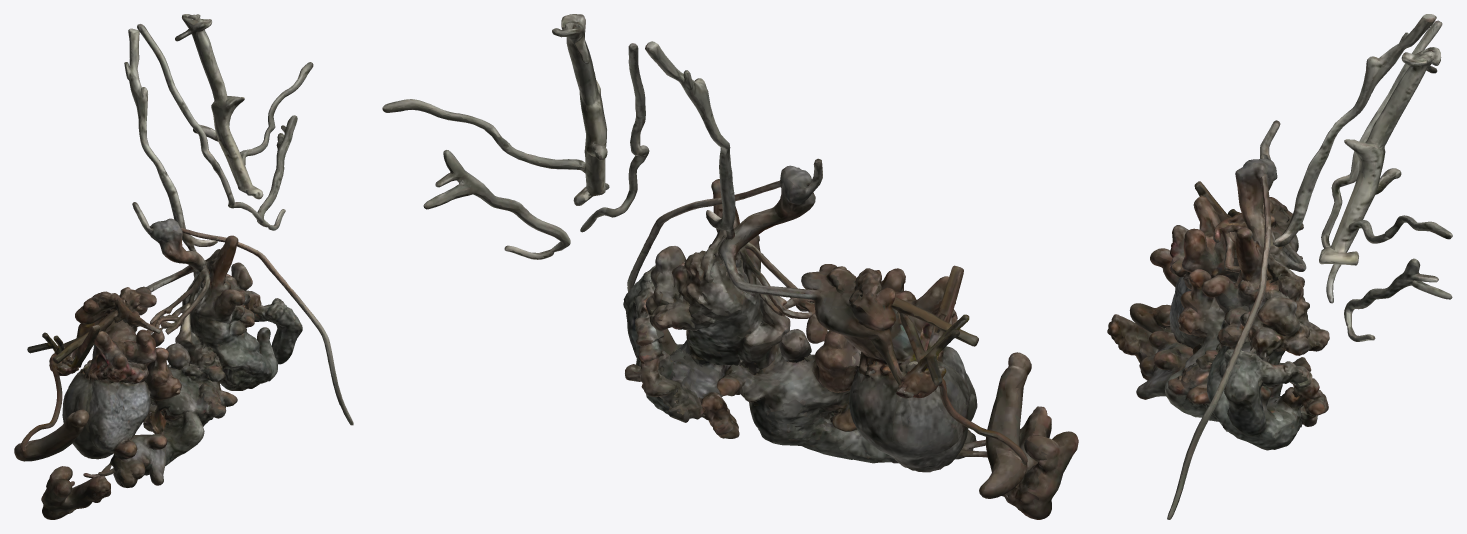
Rendered from pine-cone-v12.glb.
3 views of the same model, side by side, from view 1: azimuth 30°, elevation 25°; view 2: azimuth 150°, elevation 25°; view 3: azimuth 270°, elevation 25° (orthographic). The views are drawn at different scales.
Visible parts, largest first — view 1: geometry_0; view 2: geometry_0; view 3: geometry_0.
Boxes of the visible parts, x1,y1,x2,y2 form: geometry_0: (14,14,353,519); geometry_0: (382,14,1078,519); geometry_0: (1107,14,1452,519).
Bounding box in the file's own units: 0.959 × 0.9 × 0.6049.
1 material, 1 textured.
